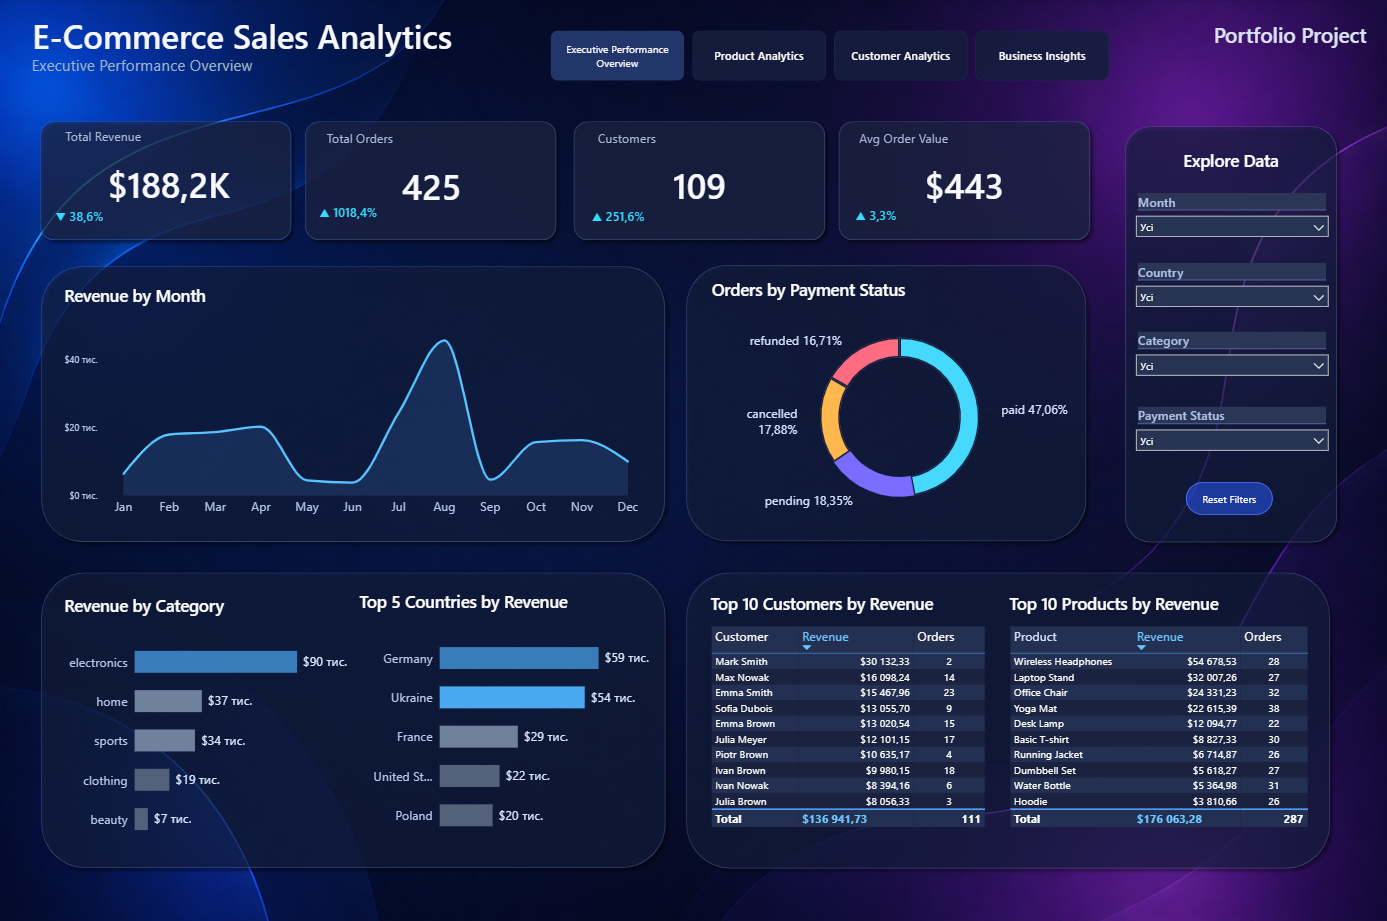

Layout of this report page (visuals, bound fields, positions):
{"tool":"powerbi","page":{"name":"Executive Performance Overview","canvas":[1800,1200],"ordinal":0},"visuals":[{"type":"shape","box":[21.7,10,946,76],"z":0},{"type":"shape","box":[735.2,150,342.9,171.7],"z":0,"group":"g1"},{"type":"shape","box":[46.2,733.5,825,400],"z":0,"group":"g3"},{"type":"group","id":"g1","title":"Група 1","box":[46,150,1374,172],"z":1000},{"type":"shape","box":[388.6,150,342.9,171.7],"z":1000,"group":"g1"},{"type":"shape","box":[880.5,733.4,850,400.6],"z":1000,"group":"g4"},{"type":"shape","box":[21.7,56.7,323.3,60],"z":2000},{"type":"shape","box":[46,150,342.9,171.7],"z":2000,"group":"g1"},{"type":"shape","box":[1448,156,292,556],"z":2000,"group":"g5"},{"type":"shape","box":[47.1,337.1,824.3,374.3],"z":2000,"group":"g2"},{"type":"shape","box":[1077.8,150,342.9,171.7],"z":3000,"group":"g1"},{"type":"cardVisual","fields":{"Data":["_Measures.Revenue Display"]},"box":[57.4,152.6,325.8,134.6],"z":3000},{"type":"shape","box":[1493.3,23.3,278.3,50],"z":4000},{"type":"cardVisual","fields":{"Data":["_Measures.Orders Trend"]},"box":[385.7,220.4,198.3,94],"z":5000},{"type":"cardVisual","fields":{"Data":["_Measures.Customers Trend"]},"box":[737.8,224.4,192,94],"z":6000},{"type":"lineChart","title":"Revenue by Month","fields":{"Category":["Calendar.Month"],"Y":["_Measures.Total Revenue"]},"box":[81.4,369.2,762.2,308.9],"z":6000,"group":"g2"},{"type":"cardVisual","fields":{"Data":["_Measures.Average Order Value Trend"]},"box":[1079.3,222.6,192,95.8],"z":7000},{"type":"cardVisual","fields":{"Data":["_Measures.Revenue Trend"]},"box":[46,232.7,188.4,78.2],"z":8000},{"type":"clusteredBarChart","title":"Revenue by Category","fields":{"Category":["products.category"],"Y":["_Measures.Total Revenue"]},"box":[80.6,770.2,375.6,332.2],"z":8000,"group":"g3"},{"type":"cardVisual","fields":{"Data":["_Measures.Average Order Value"]},"box":[1084.2,151.6,330.4,136.7],"z":9000},{"type":"clusteredBarChart","title":"Top 5 Countries by Revenue","fields":{"Category":["customers.country"],"Y":["_Measures.Total Revenue"]},"box":[460.8,765.4,384.3,332.1],"z":9000,"group":"g3"},{"type":"cardVisual","fields":{"Data":["_Measures.Total Orders"]},"box":[396.4,155.2,329.1,132.4],"z":10000},{"type":"slicer","fields":{"Values":["Calendar.Month"]},"box":[1460.5,246.3,269.1,76.9],"z":10000,"group":"g5"},{"type":"shape","box":[880,336.7,535,375],"z":11000},{"type":"slicer","fields":{"Values":["customers.country"]},"box":[1460.5,337.1,269.1,79.7],"z":11000,"group":"g5"},{"type":"tableEx","title":"Top 10 Customers by Revenue","fields":{"Values":["customers.customer_name","_Measures.Total Revenue","_Measures.Total Orders"]},"box":[916.1,767.8,365.6,337.8],"z":11000,"group":"g4"},{"type":"cardVisual","fields":{"Data":["_Measures.Total Customers"]},"box":[745.9,153,320.5,133.4],"z":12000},{"type":"tableEx","title":"Top 10 Products by Revenue","fields":{"Values":["products.product_name","_Measures.Total Revenue","_Measures.Total Orders"]},"box":[1301.6,766.7,396.7,336.7],"z":12000,"group":"g4"},{"type":"group","id":"g2","title":"Група 5","box":[47.1,337.1,824.3,374.3],"z":13000},{"type":"slicer","fields":{"Values":["products.category"]},"box":[1460.5,426.1,269.1,77.9],"z":13000,"group":"g5"},{"type":"donutChart","title":"Orders by Payment Status","fields":{"Category":["orders.payment_status"],"Y":["_Measures.Total Orders"]},"box":[917.8,362.2,495.6,320],"z":14000},{"type":"group","id":"g3","title":"Група 9","box":[46.2,733.5,825,400],"z":15000},{"type":"slicer","fields":{"Values":["orders.payment_status"]},"box":[1460.5,522.5,269.1,77.9],"z":16000,"group":"g5"},{"type":"group","id":"g4","title":"Група 7","box":[880.5,733.4,850,400.6],"z":16000},{"type":"group","id":"g5","title":"Група 2","box":[1448,156,292,556],"z":17000},{"type":"pageNavigator","box":[714,42,725.7,65.7],"z":18000},{"type":"actionButton","box":[1529.2,617.2,126.2,56.2],"z":19000,"group":"g5"}]}

Visuals, with their boxes in screenshot pixels (x1, y1, x2, y2), scaled from the page's 1800x1200 canvas onto the 1387x921 screenshot:
shape: pyautogui.locateOnScreen(17, 8, 746, 66)
shape: pyautogui.locateOnScreen(567, 115, 831, 247)
shape: pyautogui.locateOnScreen(36, 563, 671, 870)
"Група 1" group: pyautogui.locateOnScreen(35, 115, 1094, 247)
shape: pyautogui.locateOnScreen(299, 115, 564, 247)
shape: pyautogui.locateOnScreen(678, 563, 1333, 870)
shape: pyautogui.locateOnScreen(17, 44, 266, 90)
shape: pyautogui.locateOnScreen(35, 115, 300, 247)
shape: pyautogui.locateOnScreen(1116, 120, 1341, 546)
shape: pyautogui.locateOnScreen(36, 259, 671, 546)
shape: pyautogui.locateOnScreen(831, 115, 1095, 247)
cardVisual - _Measures.Revenue Display: pyautogui.locateOnScreen(44, 117, 295, 220)
shape: pyautogui.locateOnScreen(1151, 18, 1365, 56)
cardVisual - _Measures.Orders Trend: pyautogui.locateOnScreen(297, 169, 450, 241)
cardVisual - _Measures.Customers Trend: pyautogui.locateOnScreen(569, 172, 716, 244)
"Revenue by Month" lineChart: pyautogui.locateOnScreen(63, 283, 650, 520)
cardVisual - _Measures.Average Order Value Trend: pyautogui.locateOnScreen(832, 171, 980, 244)
cardVisual - _Measures.Revenue Trend: pyautogui.locateOnScreen(35, 179, 181, 239)
"Revenue by Category" clusteredBarChart: pyautogui.locateOnScreen(62, 591, 352, 846)
cardVisual - _Measures.Average Order Value: pyautogui.locateOnScreen(835, 116, 1090, 221)
"Top 5 Countries by Revenue" clusteredBarChart: pyautogui.locateOnScreen(355, 587, 651, 842)
cardVisual - _Measures.Total Orders: pyautogui.locateOnScreen(305, 119, 559, 221)
slicer - Calendar.Month: pyautogui.locateOnScreen(1125, 189, 1333, 248)
shape: pyautogui.locateOnScreen(678, 258, 1090, 546)
slicer - customers.country: pyautogui.locateOnScreen(1125, 259, 1333, 320)
"Top 10 Customers by Revenue" tableEx: pyautogui.locateOnScreen(706, 589, 988, 849)
cardVisual - _Measures.Total Customers: pyautogui.locateOnScreen(575, 117, 822, 220)
"Top 10 Products by Revenue" tableEx: pyautogui.locateOnScreen(1003, 588, 1309, 847)
"Група 5" group: pyautogui.locateOnScreen(36, 259, 671, 546)
slicer - products.category: pyautogui.locateOnScreen(1125, 327, 1333, 387)
"Orders by Payment Status" donutChart: pyautogui.locateOnScreen(707, 278, 1089, 524)
"Група 9" group: pyautogui.locateOnScreen(36, 563, 671, 870)
slicer - orders.payment_status: pyautogui.locateOnScreen(1125, 401, 1333, 461)
"Група 7" group: pyautogui.locateOnScreen(678, 563, 1333, 870)
"Група 2" group: pyautogui.locateOnScreen(1116, 120, 1341, 546)
pageNavigator: pyautogui.locateOnScreen(550, 32, 1109, 83)
actionButton: pyautogui.locateOnScreen(1178, 474, 1276, 517)
